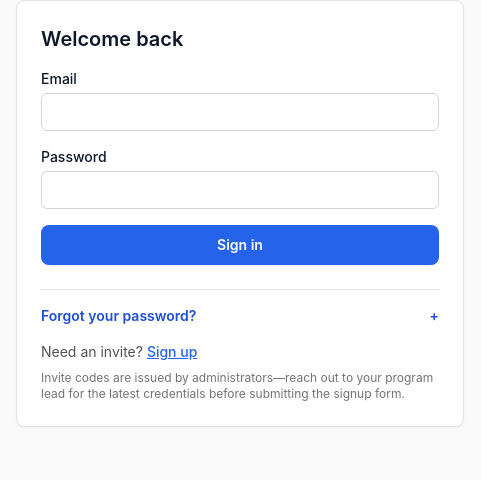
auth flow › shows an error message when credentials are invalid
Type "user@example.com" into the field labelled "Email". click: (240, 112)
box: [41,93,439,131]
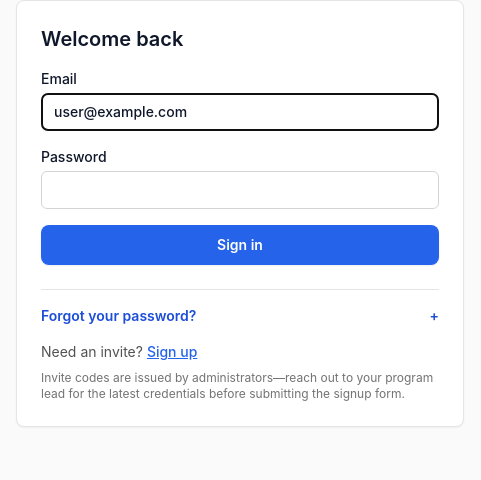
Type "wrong-password" into the password field labelled "Password". click: (240, 190)
box: [41,171,439,209]
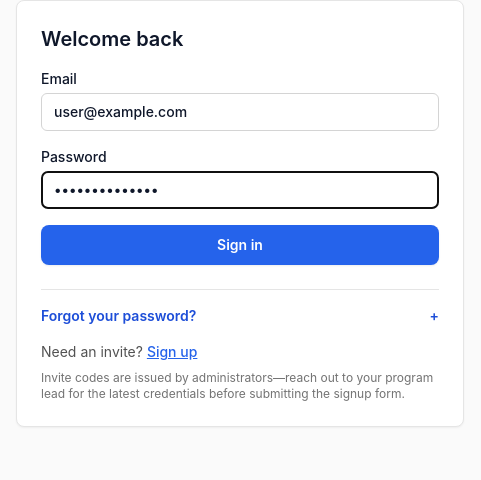
Click the button "Sign in". click: (240, 245)
box: [41,225,439,265]
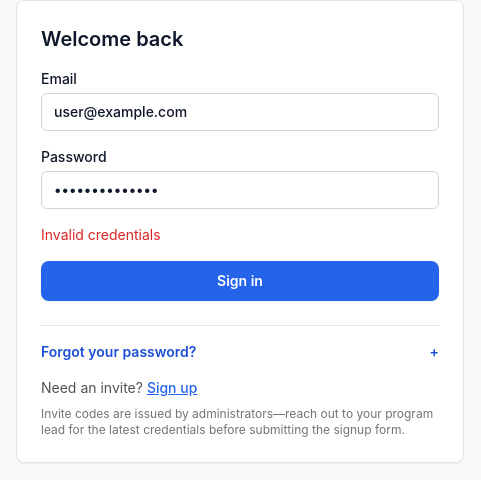
Result: the text "Invalid credentials" is shown at [41,226,161,243]
